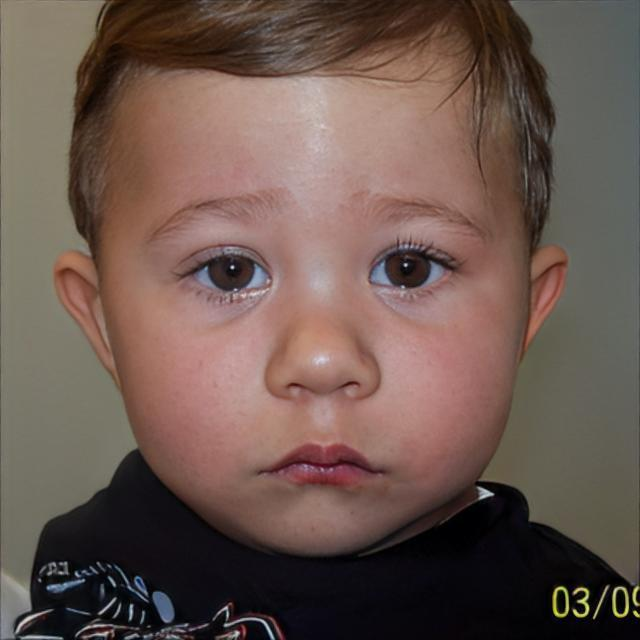sad: (112, 58, 524, 559)
